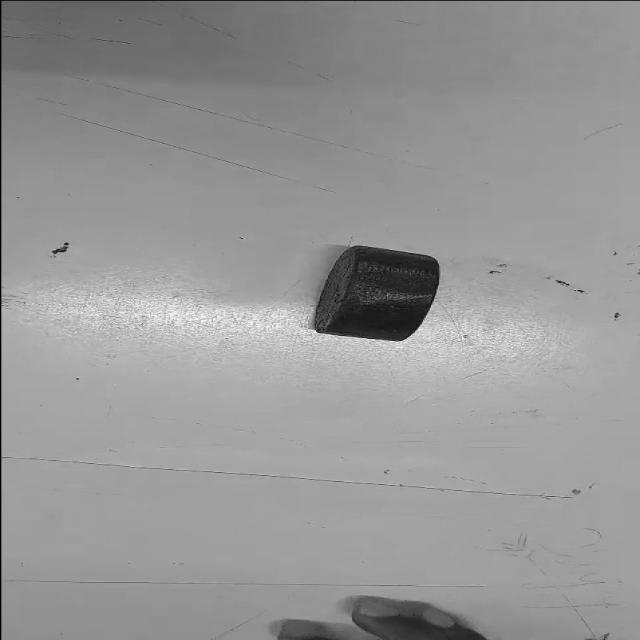bcircle: (308, 243, 446, 343)
